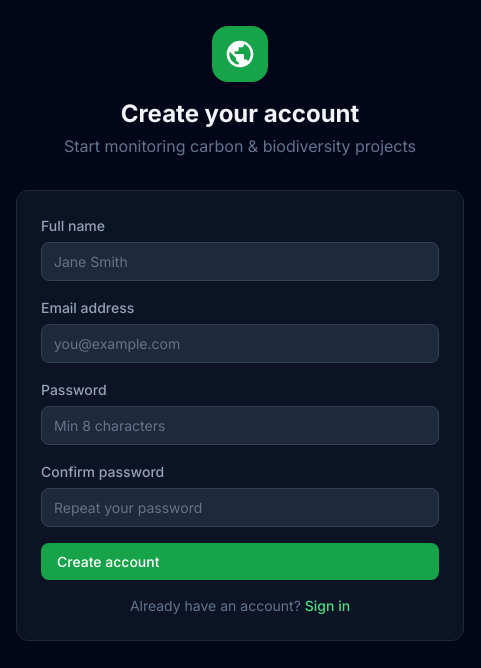
Scenario: Register Page › shows error for short password
The width and height of the screenshot is (481, 668).
Type "Test" into the field labelled "Full name".
click(240, 261); type("Test")  # box [41, 242, 439, 280]
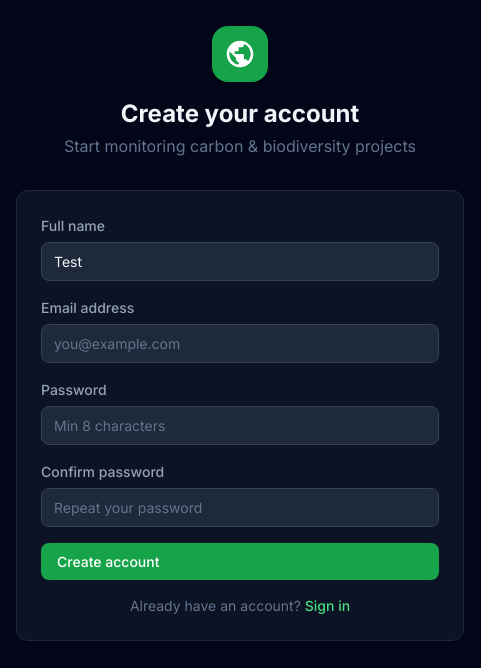
Type "test@example.com" into the field labelled "Email address".
click(240, 343); type("test@example.com")  # box [41, 324, 439, 362]
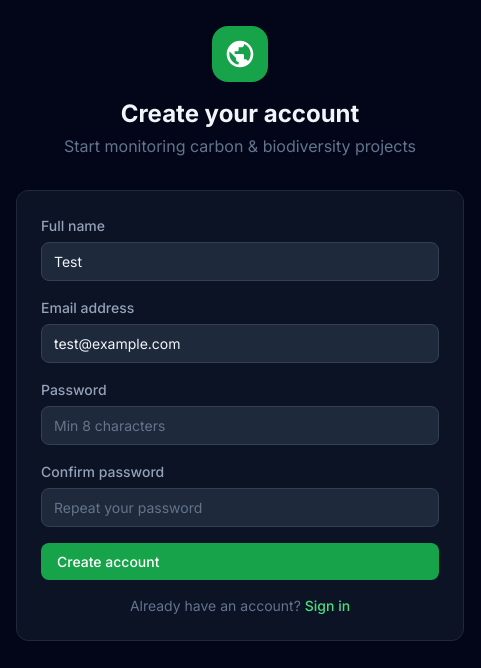
Type "abc" into the password field labelled "Password".
click(240, 425); type("abc")  # box [41, 406, 439, 444]
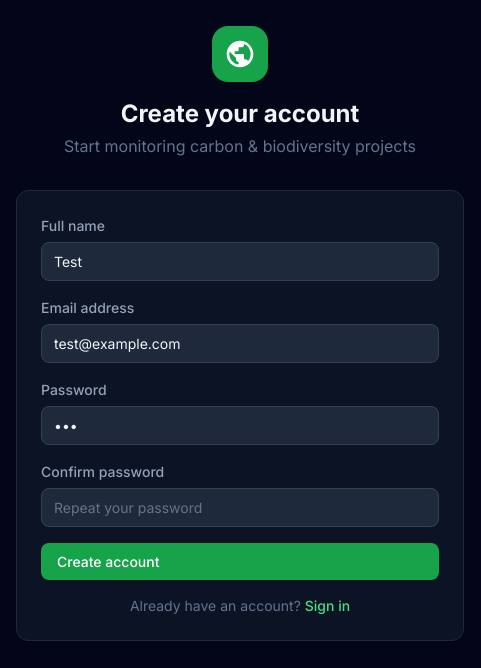
Type "abc" into the password field labelled "Confirm password".
click(240, 507); type("abc")  # box [41, 488, 439, 526]
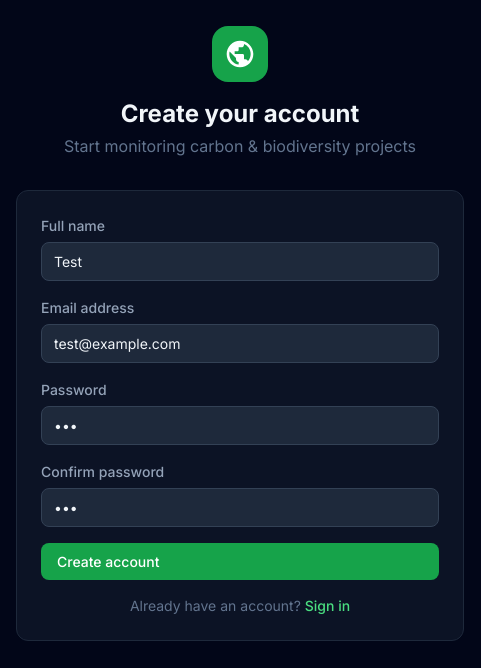
Click the button "Create account".
click(108, 561)  # box [41, 542, 439, 580]
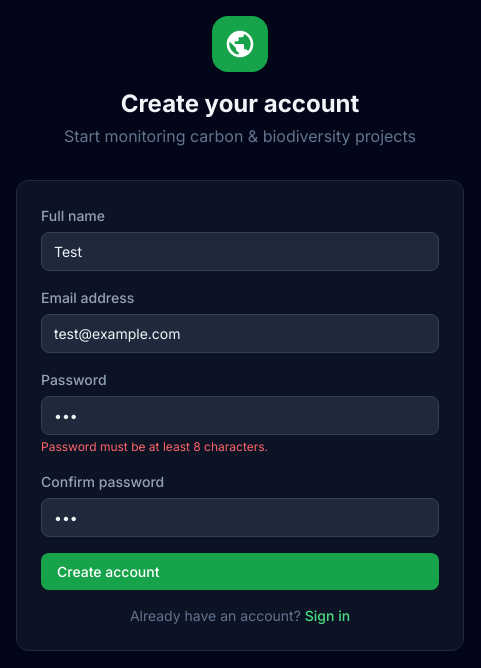
Expected: the text "Password must be at least 8 characters." is shown, [41, 438, 268, 454]
